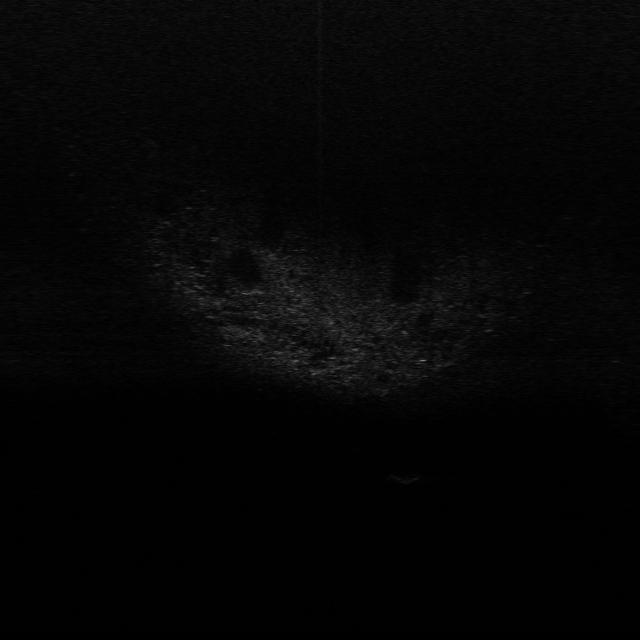cube: (388, 473, 423, 486)
